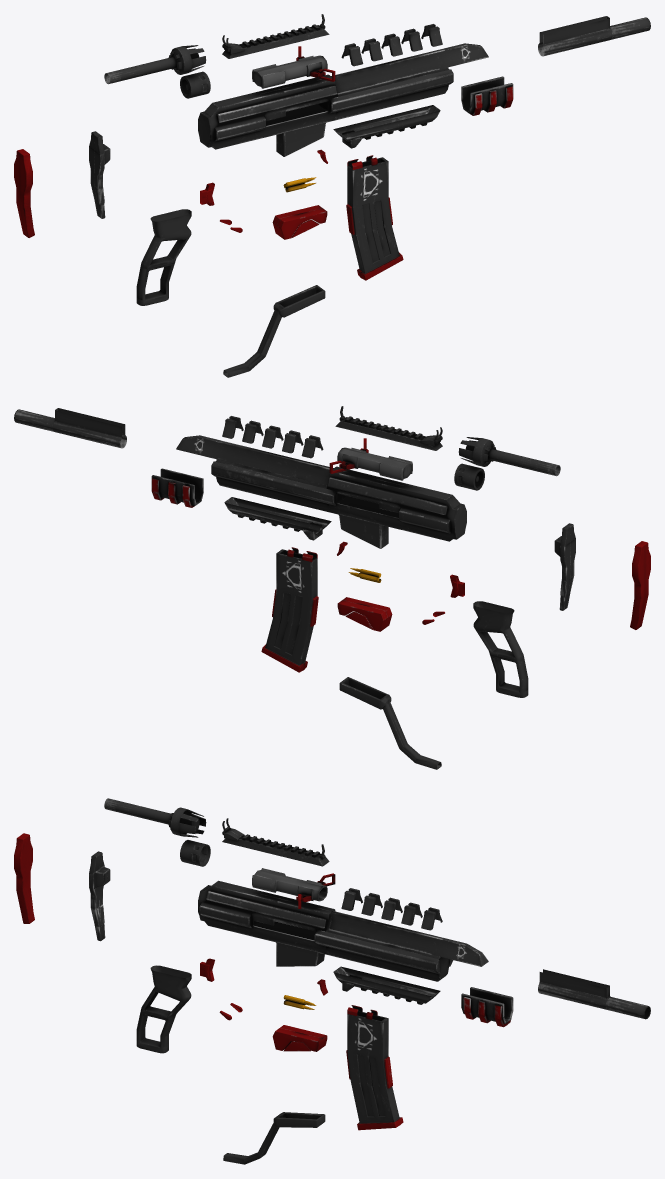
The model's file is SK_DKAR_Exploded.fbx.
3 renders of one model, top to bottom at view 1: azimuth 30°, elevation 25°; view 2: azimuth 150°, elevation 25°; view 3: azimuth 330°, elevation 25°, orthographic.
Visible parts, largest first — view 1: Body.001, Mag_Mesh, HandleLight_Mesh, Barrel, BottomRail, MagConnector_Mesh, Thing_Mesh, StockLight_Mesh, BarrelDeco, BarrelCover, SightRail_Mesh, FireMode_Mesh (+3 smaller); view 2: Body.001, Mag_Mesh, HandleLight_Mesh, Barrel, BottomRail, MagConnector_Mesh, Thing_Mesh, StockLight_Mesh, BarrelDeco, BarrelCover, SightRail_Mesh, FireMode_Mesh (+3 smaller); view 3: Body.001, Mag_Mesh, HandleLight_Mesh, Barrel, BottomRail, Thing_Mesh, StockLight_Mesh, BarrelDeco, BarrelCover, SightRail_Mesh, StockLightPillow_Mesh, MagConnector_Mesh (+3 smaller).
Part boxes in pixels (bbox=[...]): Body.001: bbox=[198, 43, 488, 156]; Mag_Mesh: bbox=[346, 155, 403, 280]; HandleLight_Mesh: bbox=[136, 209, 191, 305]; Barrel: bbox=[538, 16, 650, 56]; BottomRail: bbox=[333, 105, 440, 148]; MagConnector_Mesh: bbox=[223, 285, 325, 377]; Thing_Mesh: bbox=[252, 46, 335, 88]; StockLight_Mesh: bbox=[104, 45, 206, 84]; BarrelDeco: bbox=[341, 24, 442, 66]; BarrelCover: bbox=[461, 76, 513, 115]; SightRail_Mesh: bbox=[222, 14, 329, 58]; FireMode_Mesh: bbox=[220, 205, 327, 239]; Body.001: bbox=[176, 435, 466, 548]; Mag_Mesh: bbox=[261, 547, 318, 672]; HandleLight_Mesh: bbox=[473, 601, 528, 697]; Barrel: bbox=[14, 408, 126, 448]; BottomRail: bbox=[224, 497, 331, 540]; MagConnector_Mesh: bbox=[339, 677, 441, 769]; Thing_Mesh: bbox=[329, 438, 412, 480]; StockLight_Mesh: bbox=[458, 437, 560, 476]; BarrelDeco: bbox=[222, 416, 323, 458]; BarrelCover: bbox=[151, 468, 203, 507]; SightRail_Mesh: bbox=[335, 406, 442, 450]; FireMode_Mesh: bbox=[337, 597, 444, 631]; Body.001: bbox=[198, 880, 488, 981]; Mag_Mesh: bbox=[346, 1005, 403, 1130]; HandleLight_Mesh: bbox=[136, 965, 191, 1053]; Barrel: bbox=[538, 969, 650, 1019]; BottomRail: bbox=[333, 966, 440, 1004]; Thing_Mesh: bbox=[252, 868, 335, 908]; StockLight_Mesh: bbox=[104, 798, 206, 837]; BarrelDeco: bbox=[341, 888, 442, 930]; BarrelCover: bbox=[461, 987, 513, 1027]; SightRail_Mesh: bbox=[222, 818, 329, 866]; StockLightPillow_Mesh: bbox=[14, 833, 34, 923]; MagConnector_Mesh: bbox=[223, 1112, 325, 1164].
Bounding box in the file's own units: 94.56 × 9.22 × 48.87.
